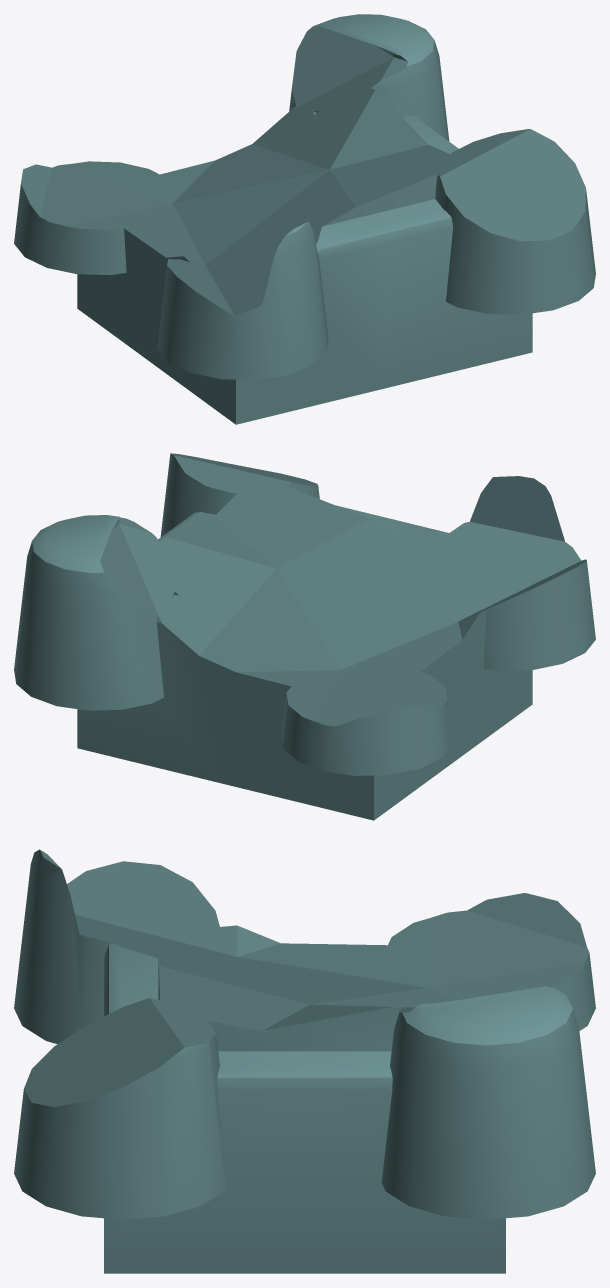
Rendered from SandcastleRuined.fbx.
3 views of the same model, one above another, from view 1: azimuth 30°, elevation 25°; view 2: azimuth 150°, elevation 25°; view 3: azimuth 270°, elevation 25° (orthographic). The views are drawn at different scales.
Visible parts, largest first — view 1: Sandcastle.002, Sandcastle.001, Sandcastle.003; view 2: Sandcastle.001, Sandcastle.002, Sandcastle.003; view 3: Sandcastle.002, Sandcastle.001, Sandcastle.003.
Boxes of the visible parts, box(x1,y1,x2,y2) form: Sandcastle.002: box(14, 14, 595, 379); Sandcastle.001: box(77, 102, 532, 424); Sandcastle.003: box(287, 84, 461, 233); Sandcastle.001: box(77, 505, 532, 820); Sandcastle.002: box(14, 453, 595, 775); Sandcastle.003: box(147, 479, 434, 613); Sandcastle.002: box(14, 849, 595, 1219); Sandcastle.001: box(104, 925, 505, 1273); Sandcastle.003: box(157, 950, 401, 1051).
Bounding box in the file's own units: 250 × 119 × 238.
